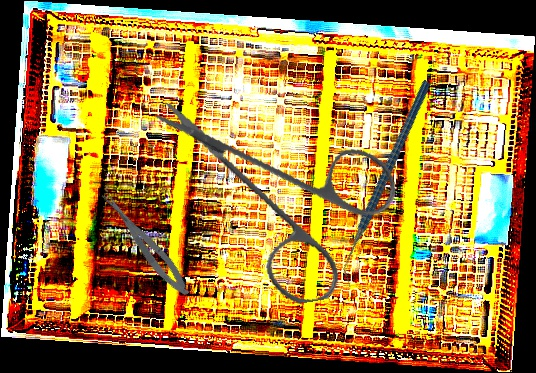Chopper: (286, 79, 489, 288)
Iris Scissors: (153, 66, 413, 323)
Micro Scissor: (97, 185, 195, 302)
